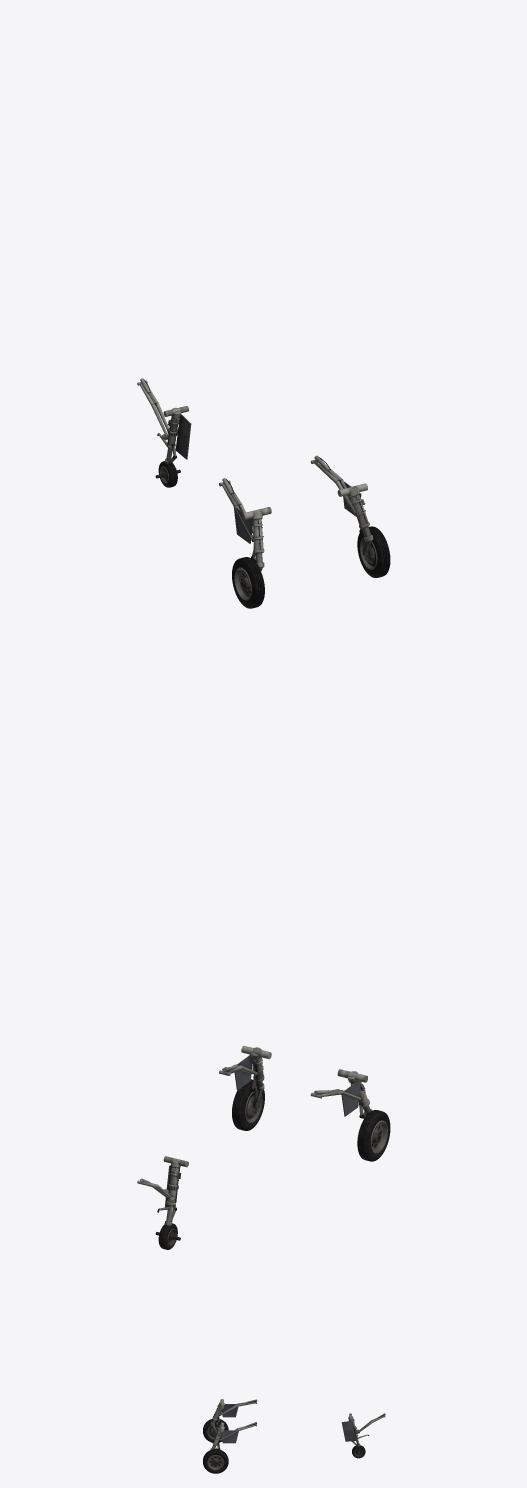
The model's file is e_gripen_gear.glb.
3 renders of one model, top to bottom at view 1: azimuth 30°, elevation 25°; view 2: azimuth 150°, elevation 25°; view 3: azimuth 270°, elevation 25°, orthographic. The views are drawn at different scales.
Visible parts, largest first — view 1: body|Gripen_paint; view 2: body|Gripen_paint; view 3: body|Gripen_paint.
Part boxes in pixels (box(x1,y1,x2,y2)): body|Gripen_paint: box(137, 378, 390, 608); body|Gripen_paint: box(137, 1045, 390, 1249); body|Gripen_paint: box(203, 1399, 385, 1473).
Bounding box in the file's own units: 2.46 × 6.13 × 15.43.
Materials: 1 (1 with a texture image).
